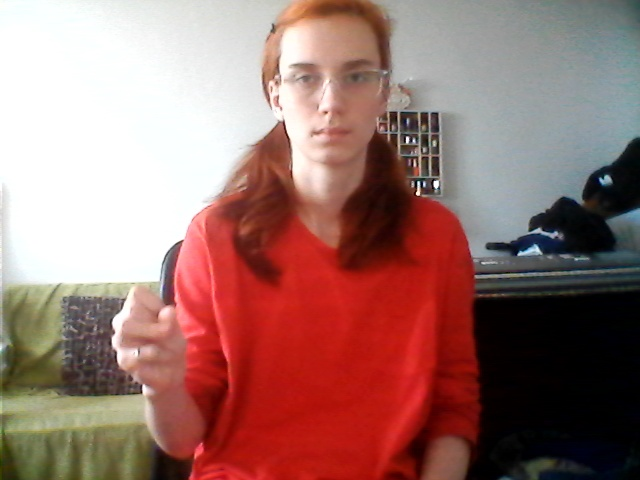r: (93, 286, 200, 402)
